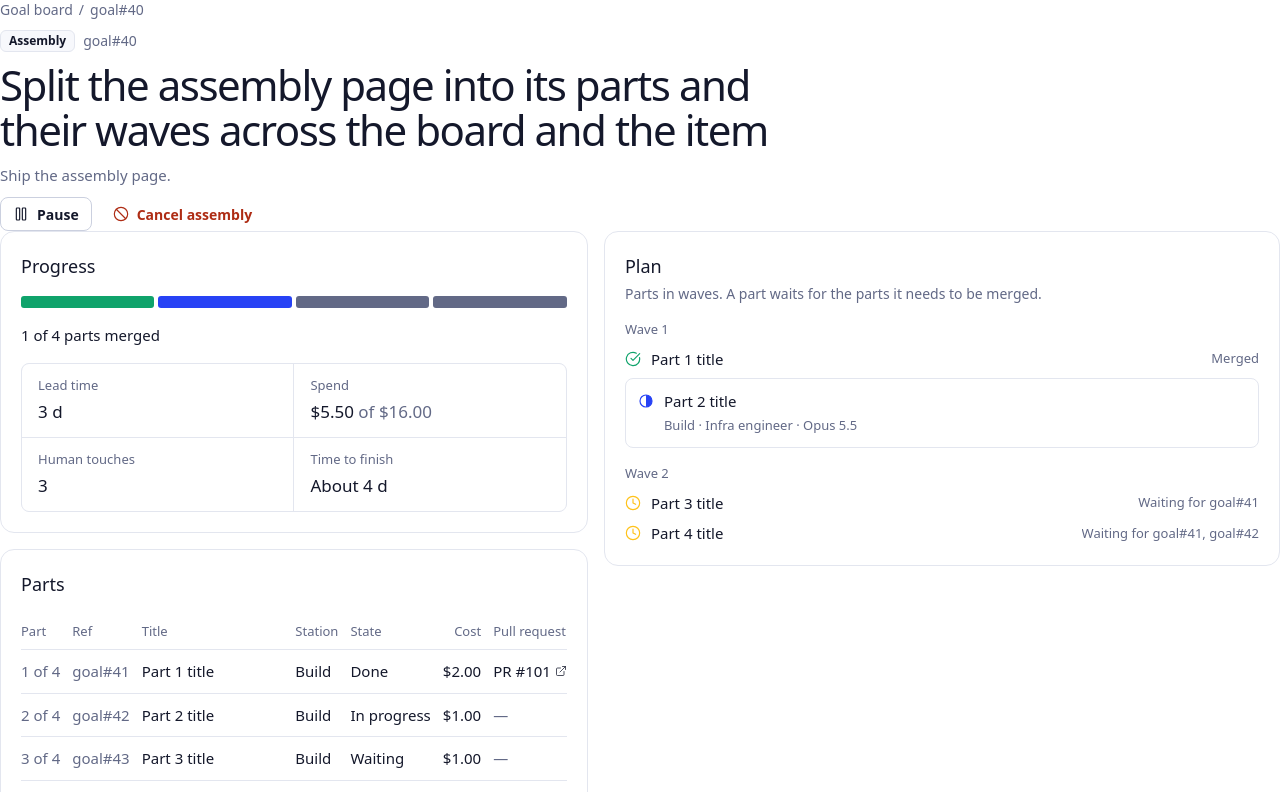
Test: AssemblyPage actions › Esc closes the cancel dialog and cancels nothing
expect the heading named "Split the assembly page into its parts and their waves acros" is shown: met, box top-left (0, 62), bottom-right (820, 153)
Step 1. Click the button "Cancel assembly" → click(182, 214), box top-left (100, 197), bottom-right (265, 231)
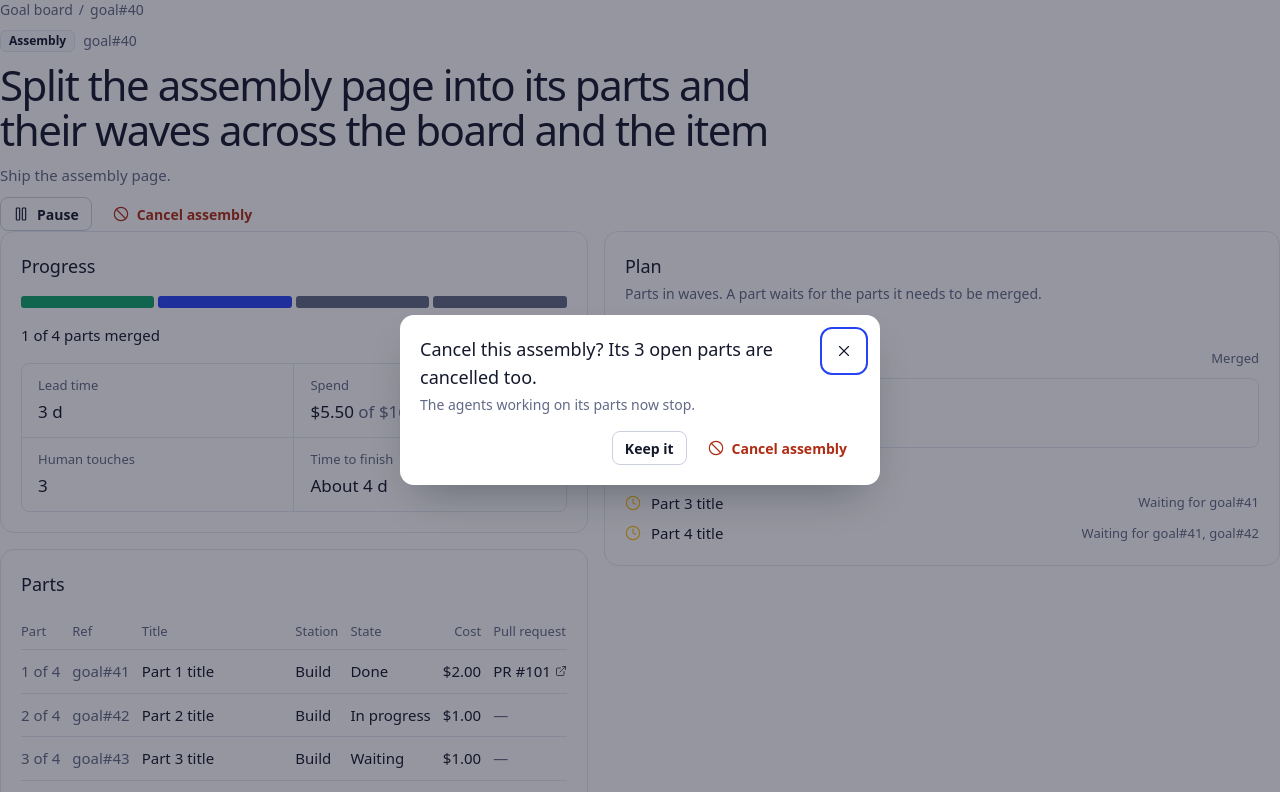
Step 2. Press Escape in the dialog, box top-left (400, 315), bottom-right (880, 485)
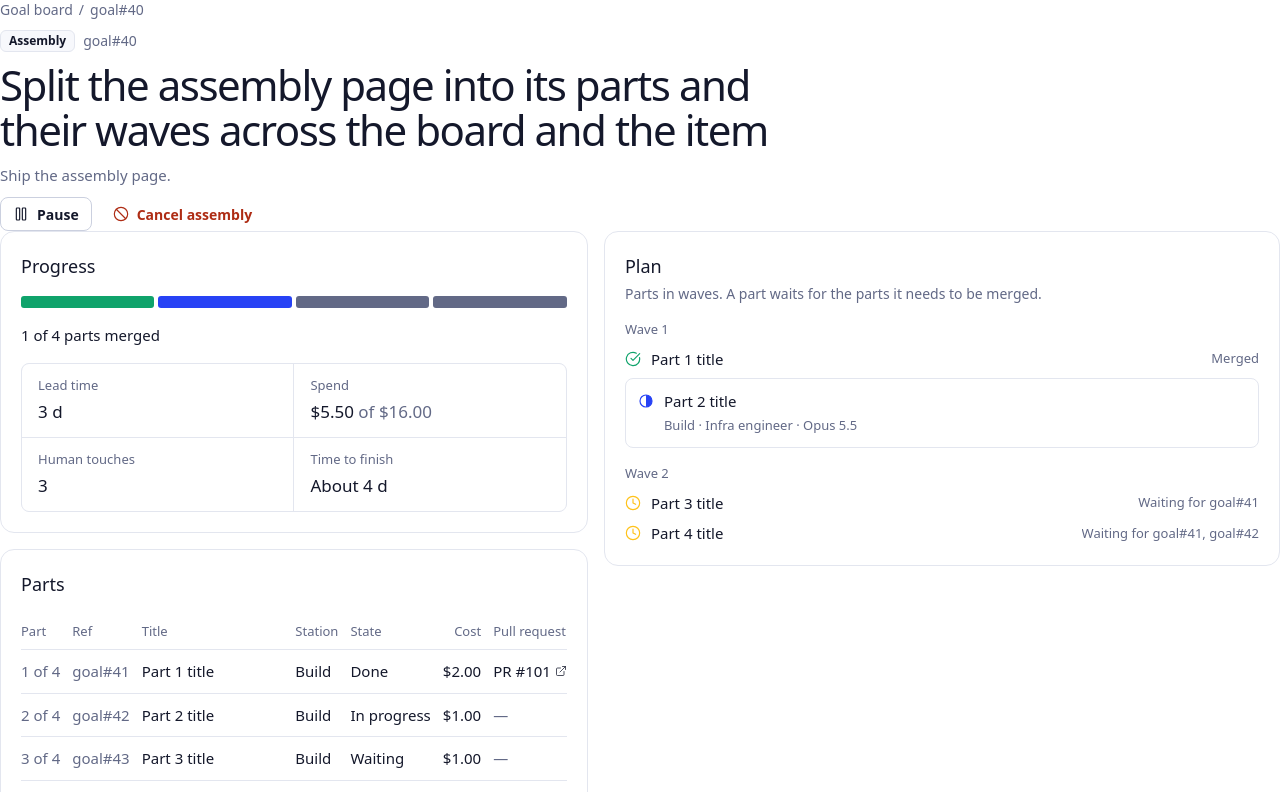
expect the dialog is gone: met
